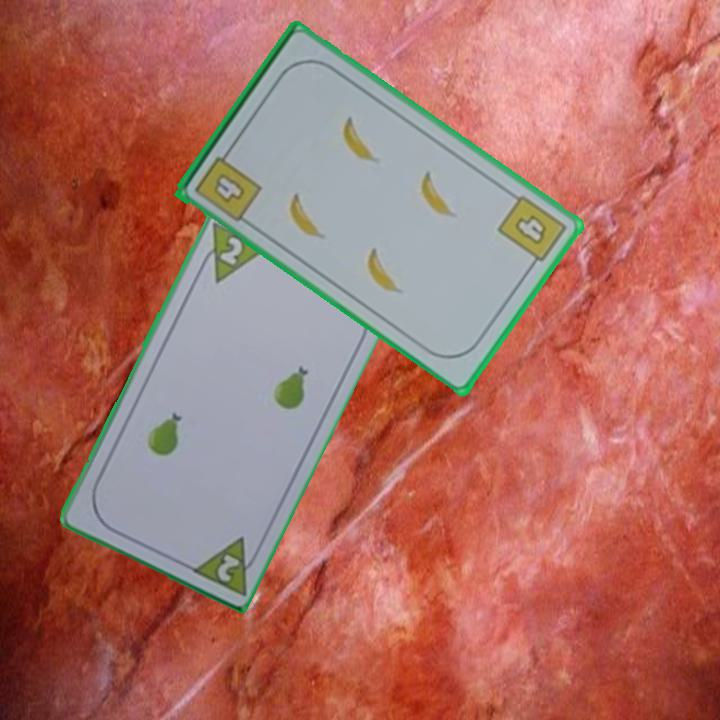2p: (215, 232, 246, 268), (213, 550, 243, 585)
4b: (494, 191, 570, 273), (191, 144, 265, 225)
